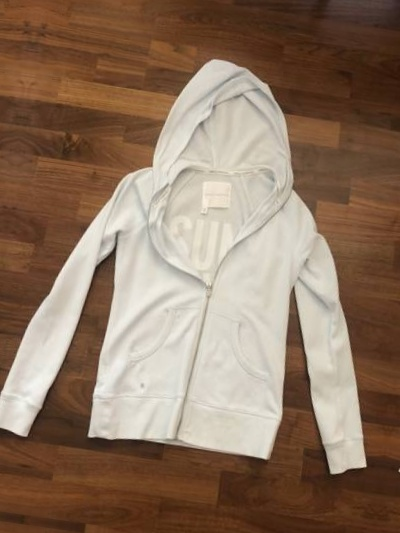Hoodie: (0, 32, 400, 507), (0, 0, 26, 449), (381, 89, 400, 533)
